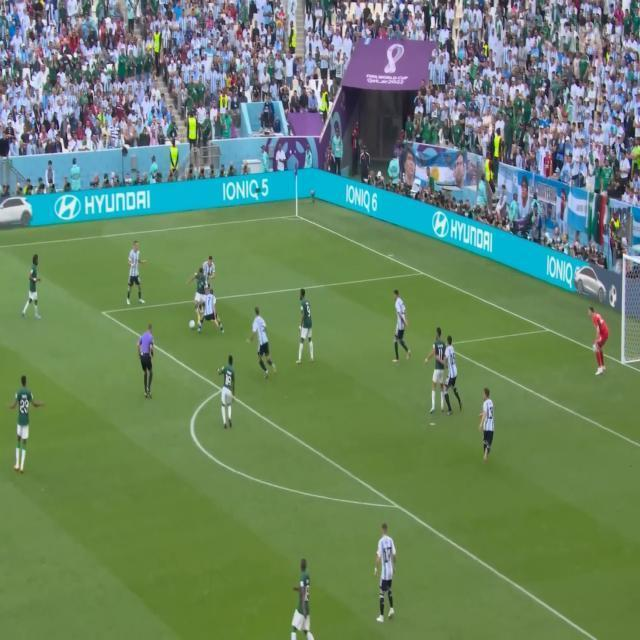football: (182, 318, 204, 332)
